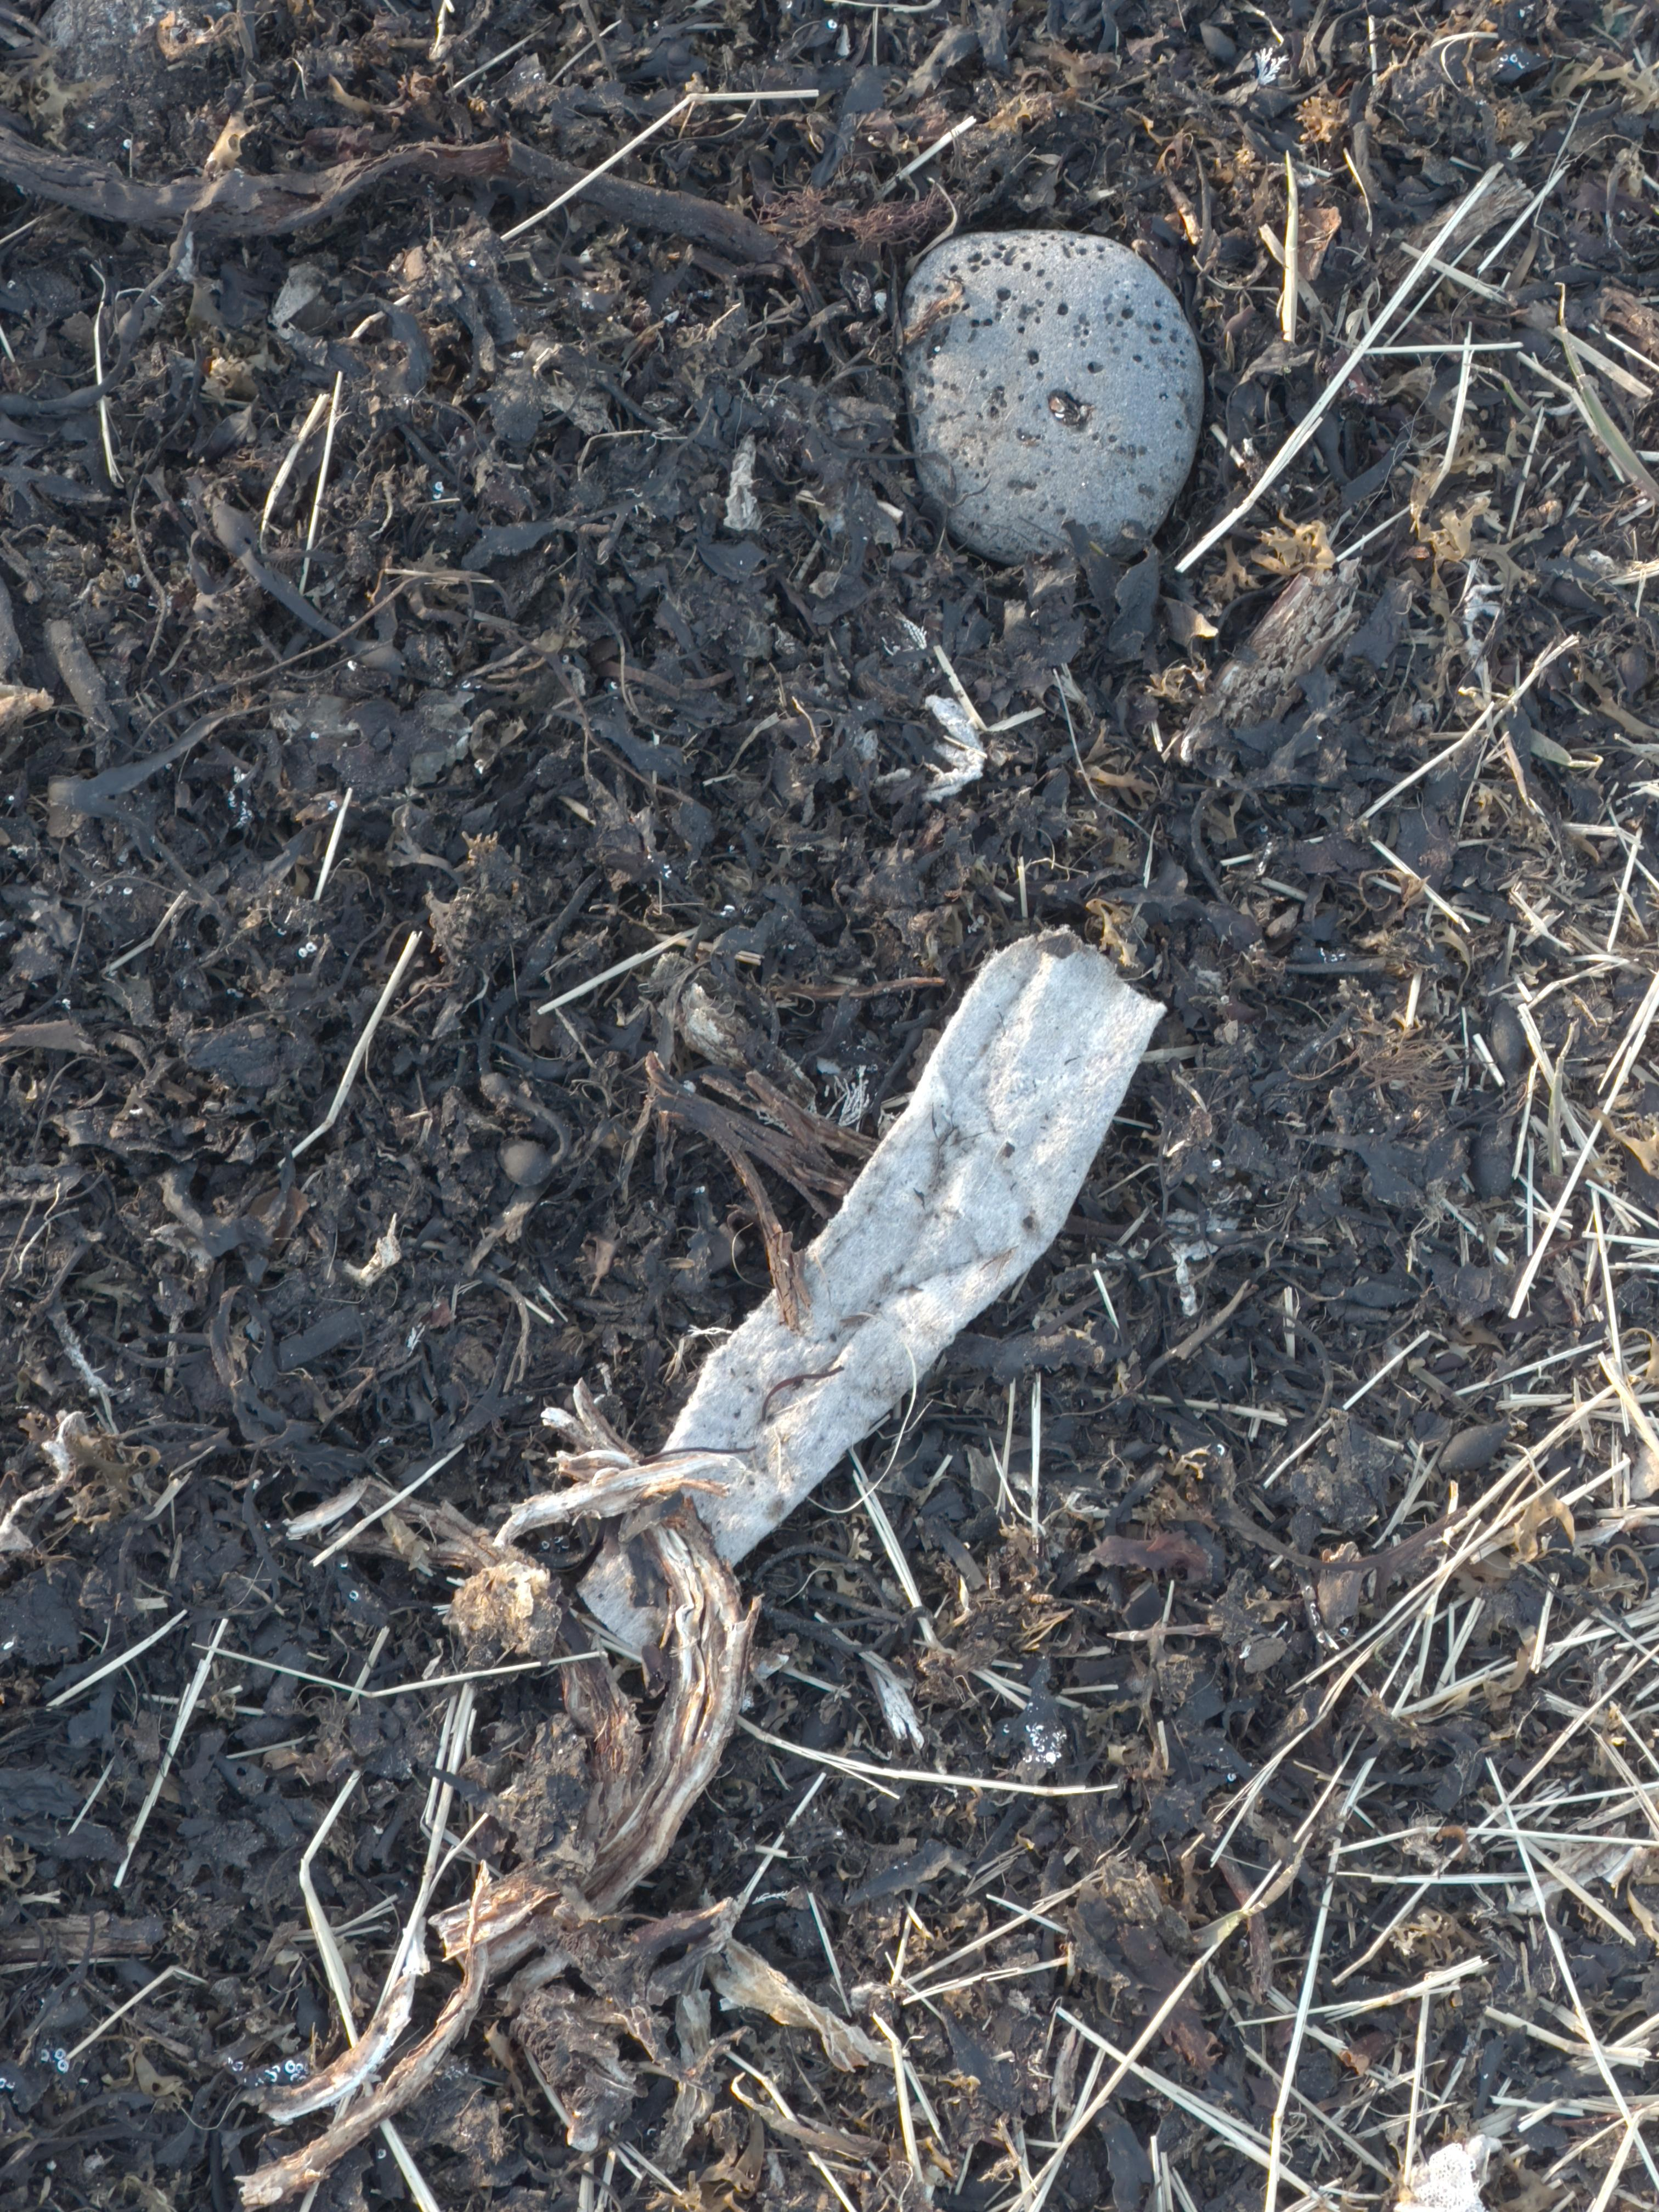trash: (666, 928, 1162, 1559)
